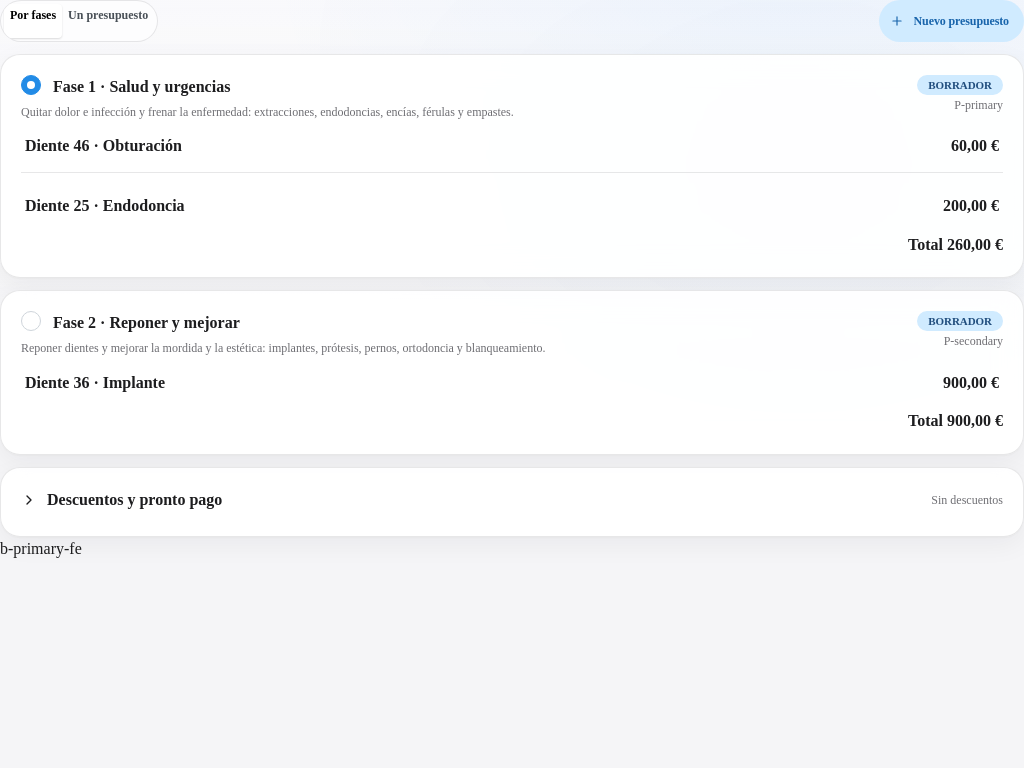
Test: a custom budget is made from chosen treatments and becomes the one to sign
Expected: the text "Fase 2 · Reponer y mejorar" is shown, [53, 311, 240, 336]
Click the button "Nuevo presupuesto": point(952, 21) [879, 0, 1023, 42]
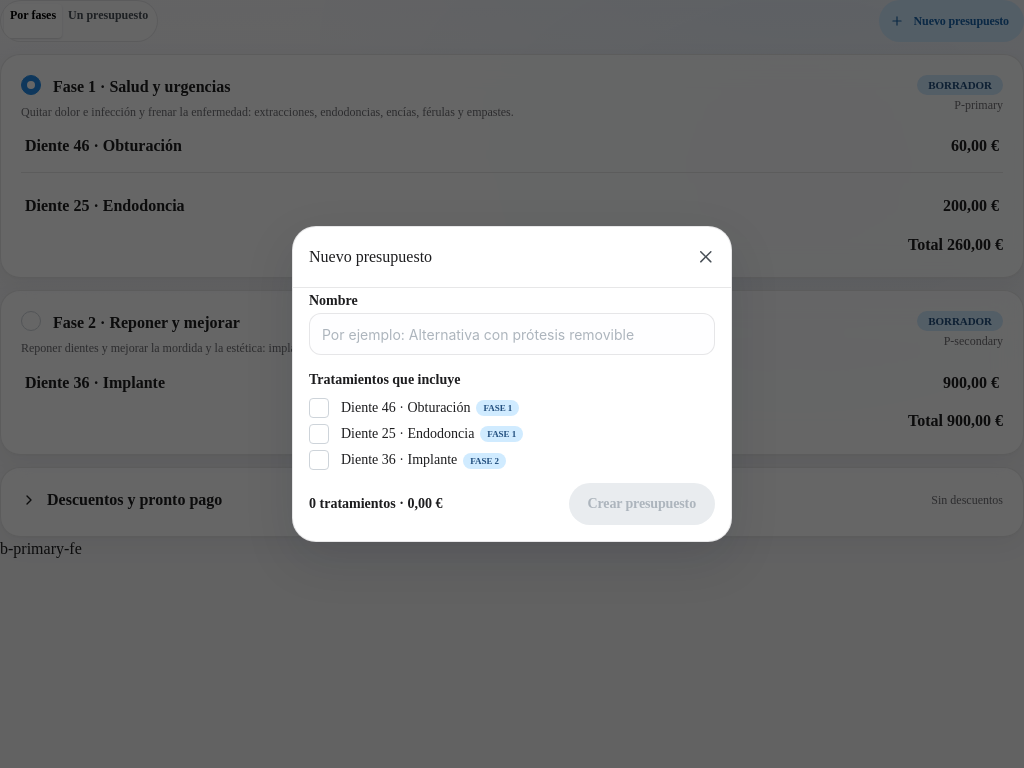
In the field labelled "Nombre": point(512, 334) [309, 313, 715, 355], type "Solo urgencias"
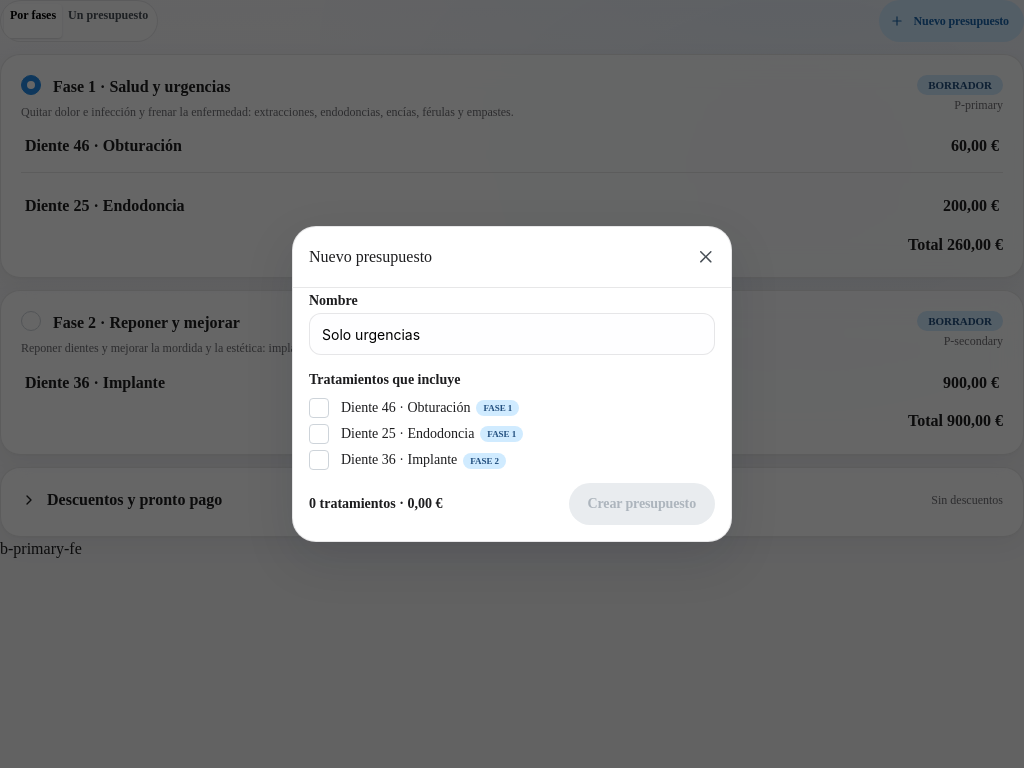
Click the checkbox labelled "Diente 25 · Endodoncia Fase 1": point(319, 434) [309, 424, 329, 444]
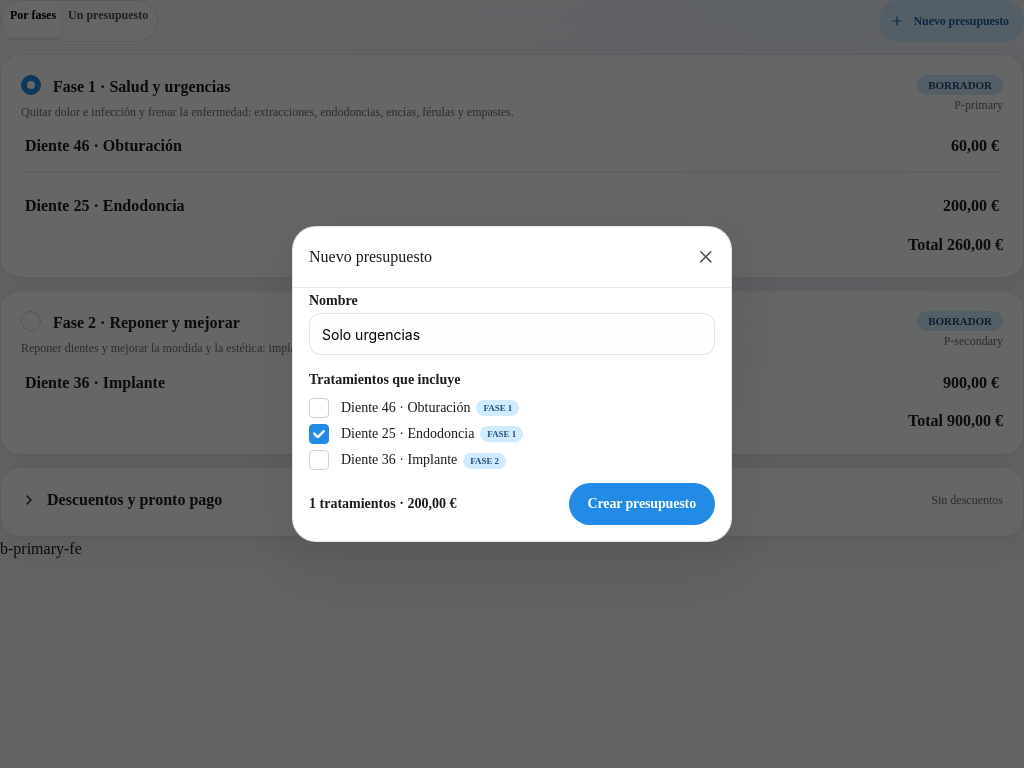
Now the text "1 tratamientos · 200,00 €" is shown, box [309, 494, 456, 514]
Click the button "Crear presupuesto": point(642, 504) [568, 483, 715, 525]
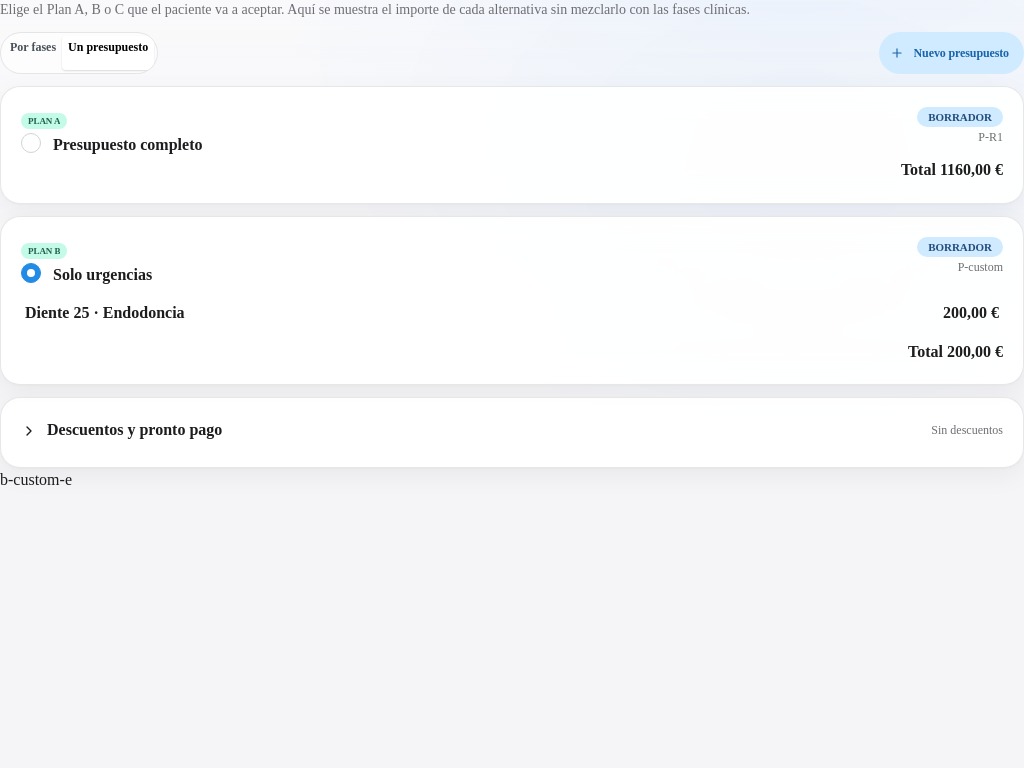
Now the text "Solo urgencias" is shown, box [53, 263, 152, 288]
Now the text named "Seleccionado" reads "b-custom-e", box [0, 471, 72, 488]
